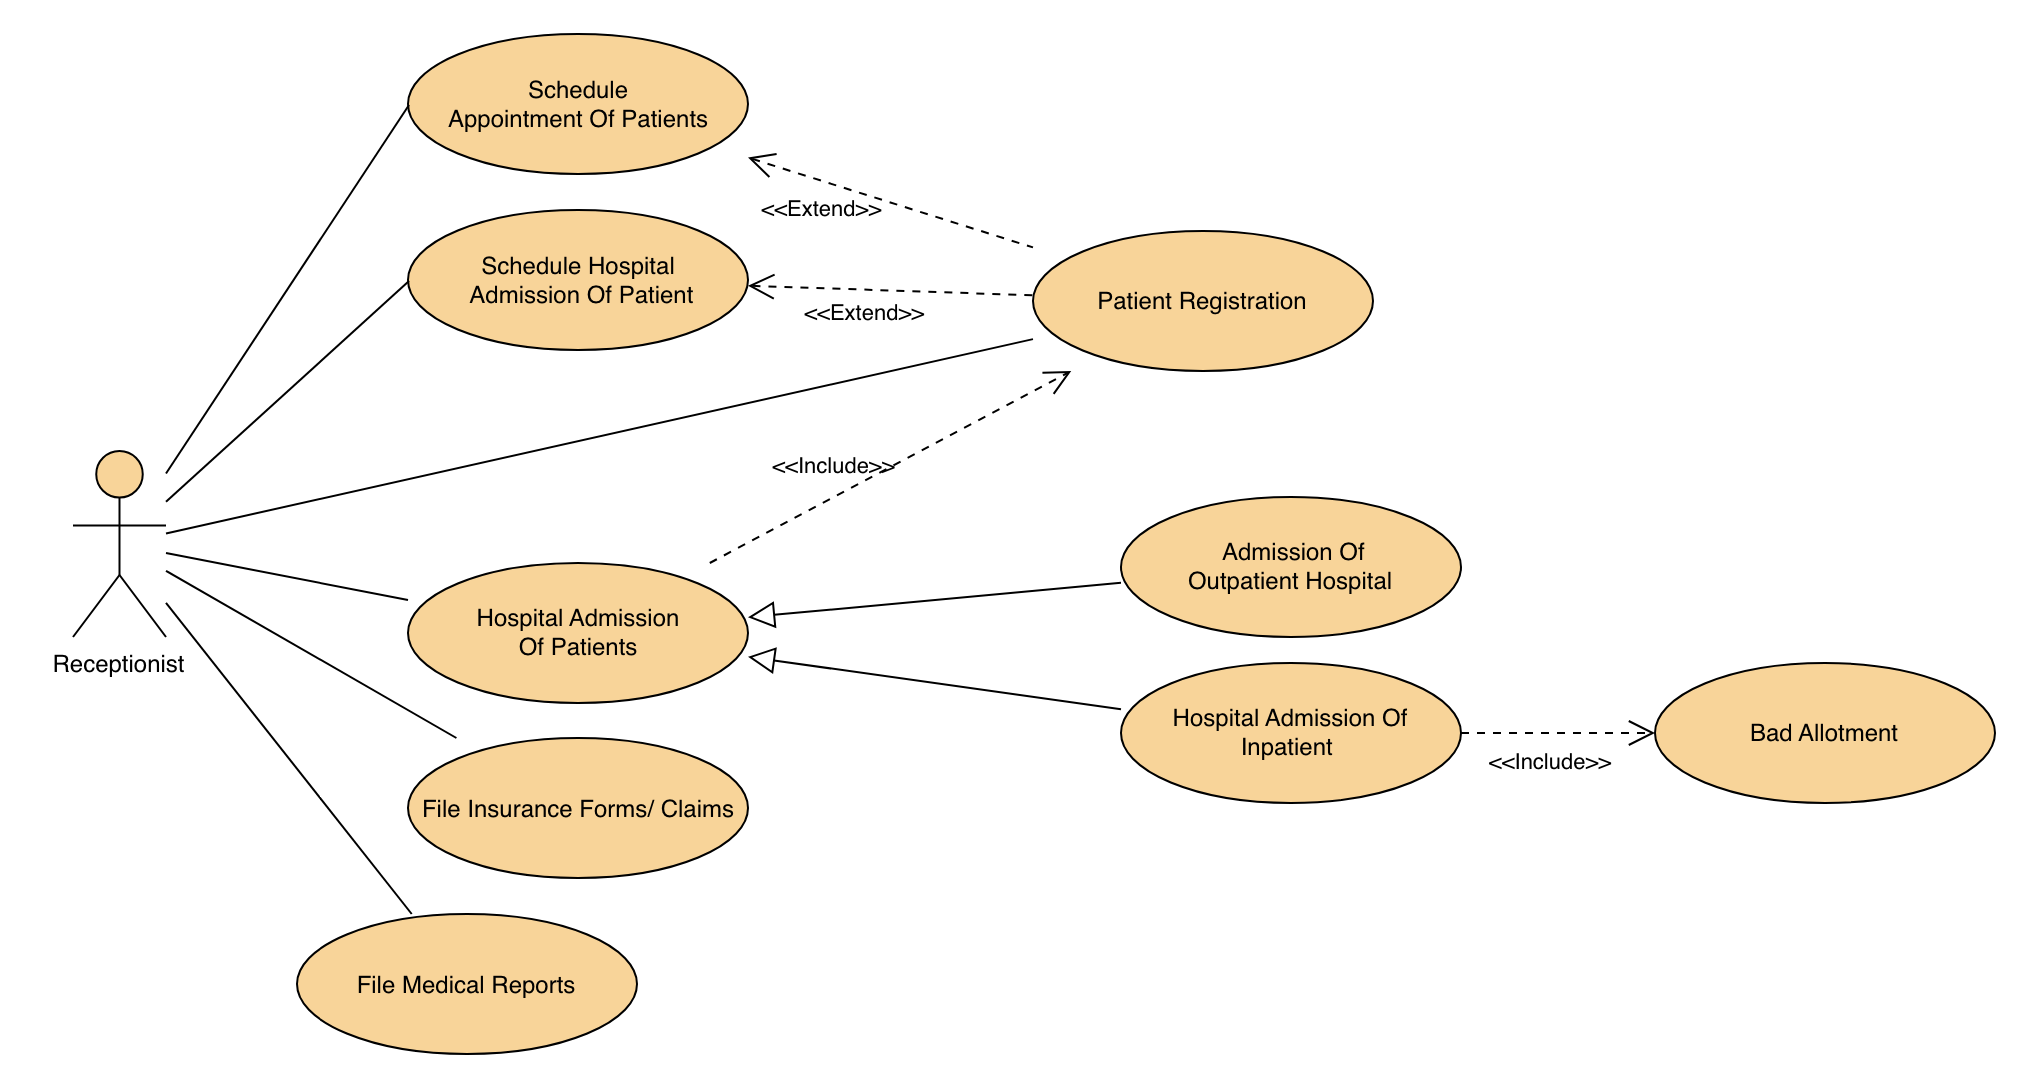actor: (59, 448, 174, 646)
association: (165, 335, 1034, 536), (165, 102, 408, 472), (164, 602, 414, 915), (701, 363, 1076, 571), (164, 280, 409, 503), (163, 571, 455, 740), (749, 646, 1123, 715), (747, 576, 1127, 630), (163, 553, 413, 606), (747, 270, 1034, 314), (1464, 711, 1653, 758)
text: (443, 73, 716, 133), (1160, 698, 1423, 760), (1182, 533, 1415, 599), (1063, 272, 1326, 328), (461, 249, 708, 307), (474, 602, 687, 662), (346, 961, 595, 1011), (418, 793, 737, 829), (1735, 705, 1913, 764), (1486, 741, 1645, 793), (756, 190, 878, 233), (803, 297, 934, 332), (48, 646, 188, 678), (761, 445, 901, 478)
use_case: (1647, 658, 1998, 810), (295, 906, 639, 1060), (1115, 658, 1464, 809), (408, 733, 751, 885), (402, 31, 751, 180), (404, 558, 751, 708), (1117, 493, 1464, 642), (408, 206, 749, 355), (1029, 227, 1373, 375)
